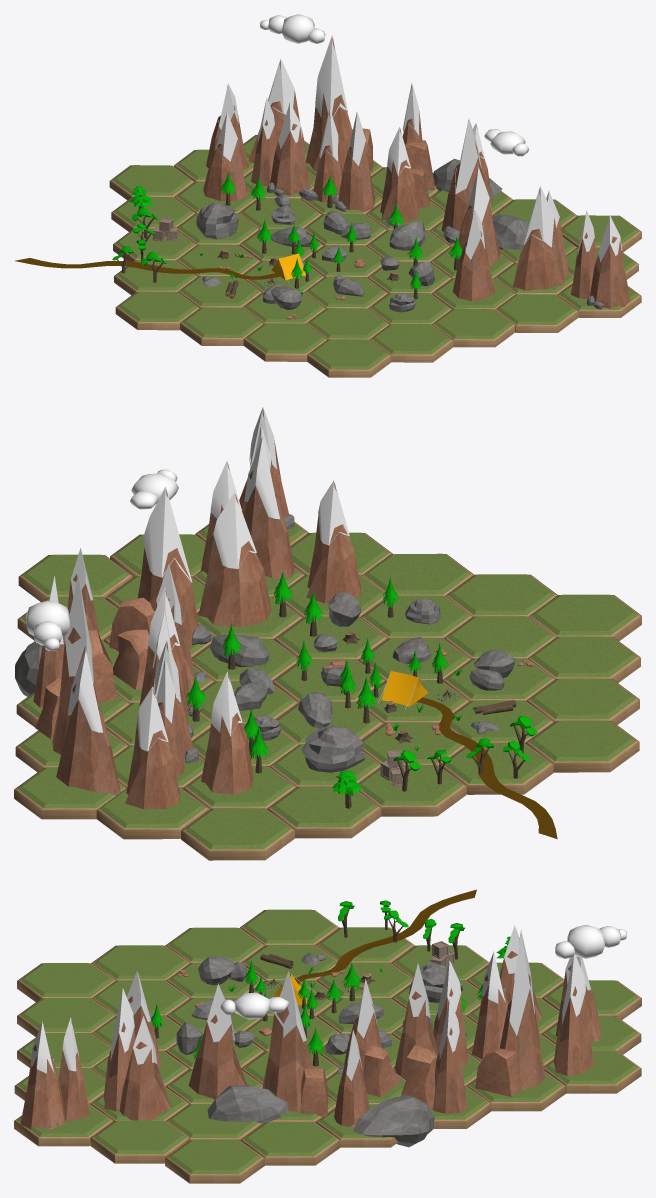
Rendered from mountains.glb.
The picture shows the model from 3 angles, top to bottom: view 1: azimuth 30°, elevation 25°; view 2: azimuth 150°, elevation 25°; view 3: azimuth 270°, elevation 25°; orthographic projection. The views are drawn at different scales.
Visible parts, largest first — view 1: ground41, ground4, ground9, ground40, ground37, ground39, ground32, mountain17, ground42, ground38, mountain19, mountain7 (+61 smaller); view 2: ground42, ground4, mountain14, ground18, ground9, ground40, ground41, ground36, mountain12, ground39, ground37, ground28 (+66 smaller); view 3: ground43, ground34, ground44, mountain1, rock37, ground41, ground4, ground39, mountain14, ground40, ground9, mountain15 (+77 smaller).
Part boxes in pixels (x1,y1,x2,y2): ground41: (307, 339, 391, 377); ground4: (115, 291, 199, 330); ground9: (180, 307, 263, 345); ground40: (243, 323, 327, 361); ground37: (432, 308, 515, 347); ground39: (369, 324, 453, 362); ground32: (495, 294, 578, 332); mountain17: (513, 188, 564, 290); ground42: (109, 165, 194, 200); ground38: (306, 308, 389, 339); mountain19: (590, 236, 630, 308); mountain7: (270, 123, 310, 195); ground42: (181, 808, 294, 860); ground4: (526, 720, 639, 772); mountain14: (198, 494, 271, 626); ground18: (267, 786, 381, 838); ground9: (526, 678, 639, 724); ground40: (528, 636, 640, 682); ground41: (529, 594, 641, 641); ground36: (358, 765, 466, 816); mountain12: (56, 684, 120, 795); ground39: (445, 574, 557, 616); ground37: (362, 553, 473, 595); ground28: (96, 787, 209, 839); ground43: (165, 1140, 264, 1183); ground34: (90, 1120, 188, 1163); ground44: (240, 1122, 340, 1165); mountain1: (262, 999, 312, 1111); rock37: (353, 1095, 434, 1147); ground41: (17, 963, 115, 1001); ground4: (240, 909, 339, 945); ground39: (17, 998, 115, 1036); mountain14: (188, 1014, 246, 1099); ground40: (91, 945, 189, 980); ground9: (165, 927, 264, 962); mountain15: (119, 1041, 171, 1120).
Bounding box in the file's own units: 0.3303 × 0.1051 × 0.3093.
Materials: 19 (11 with a texture image).
